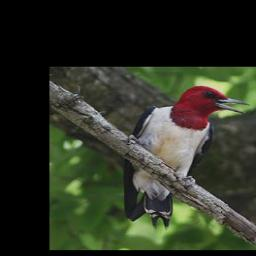Woodpecker: (117, 85, 254, 230)
